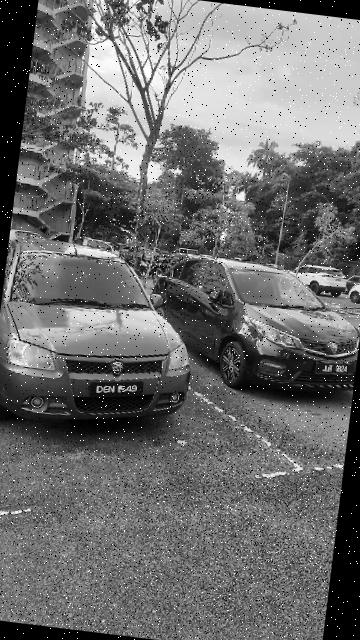License_Plate: (92, 375, 146, 402), (312, 357, 358, 381)
car: (1, 232, 207, 443), (139, 241, 360, 409)
